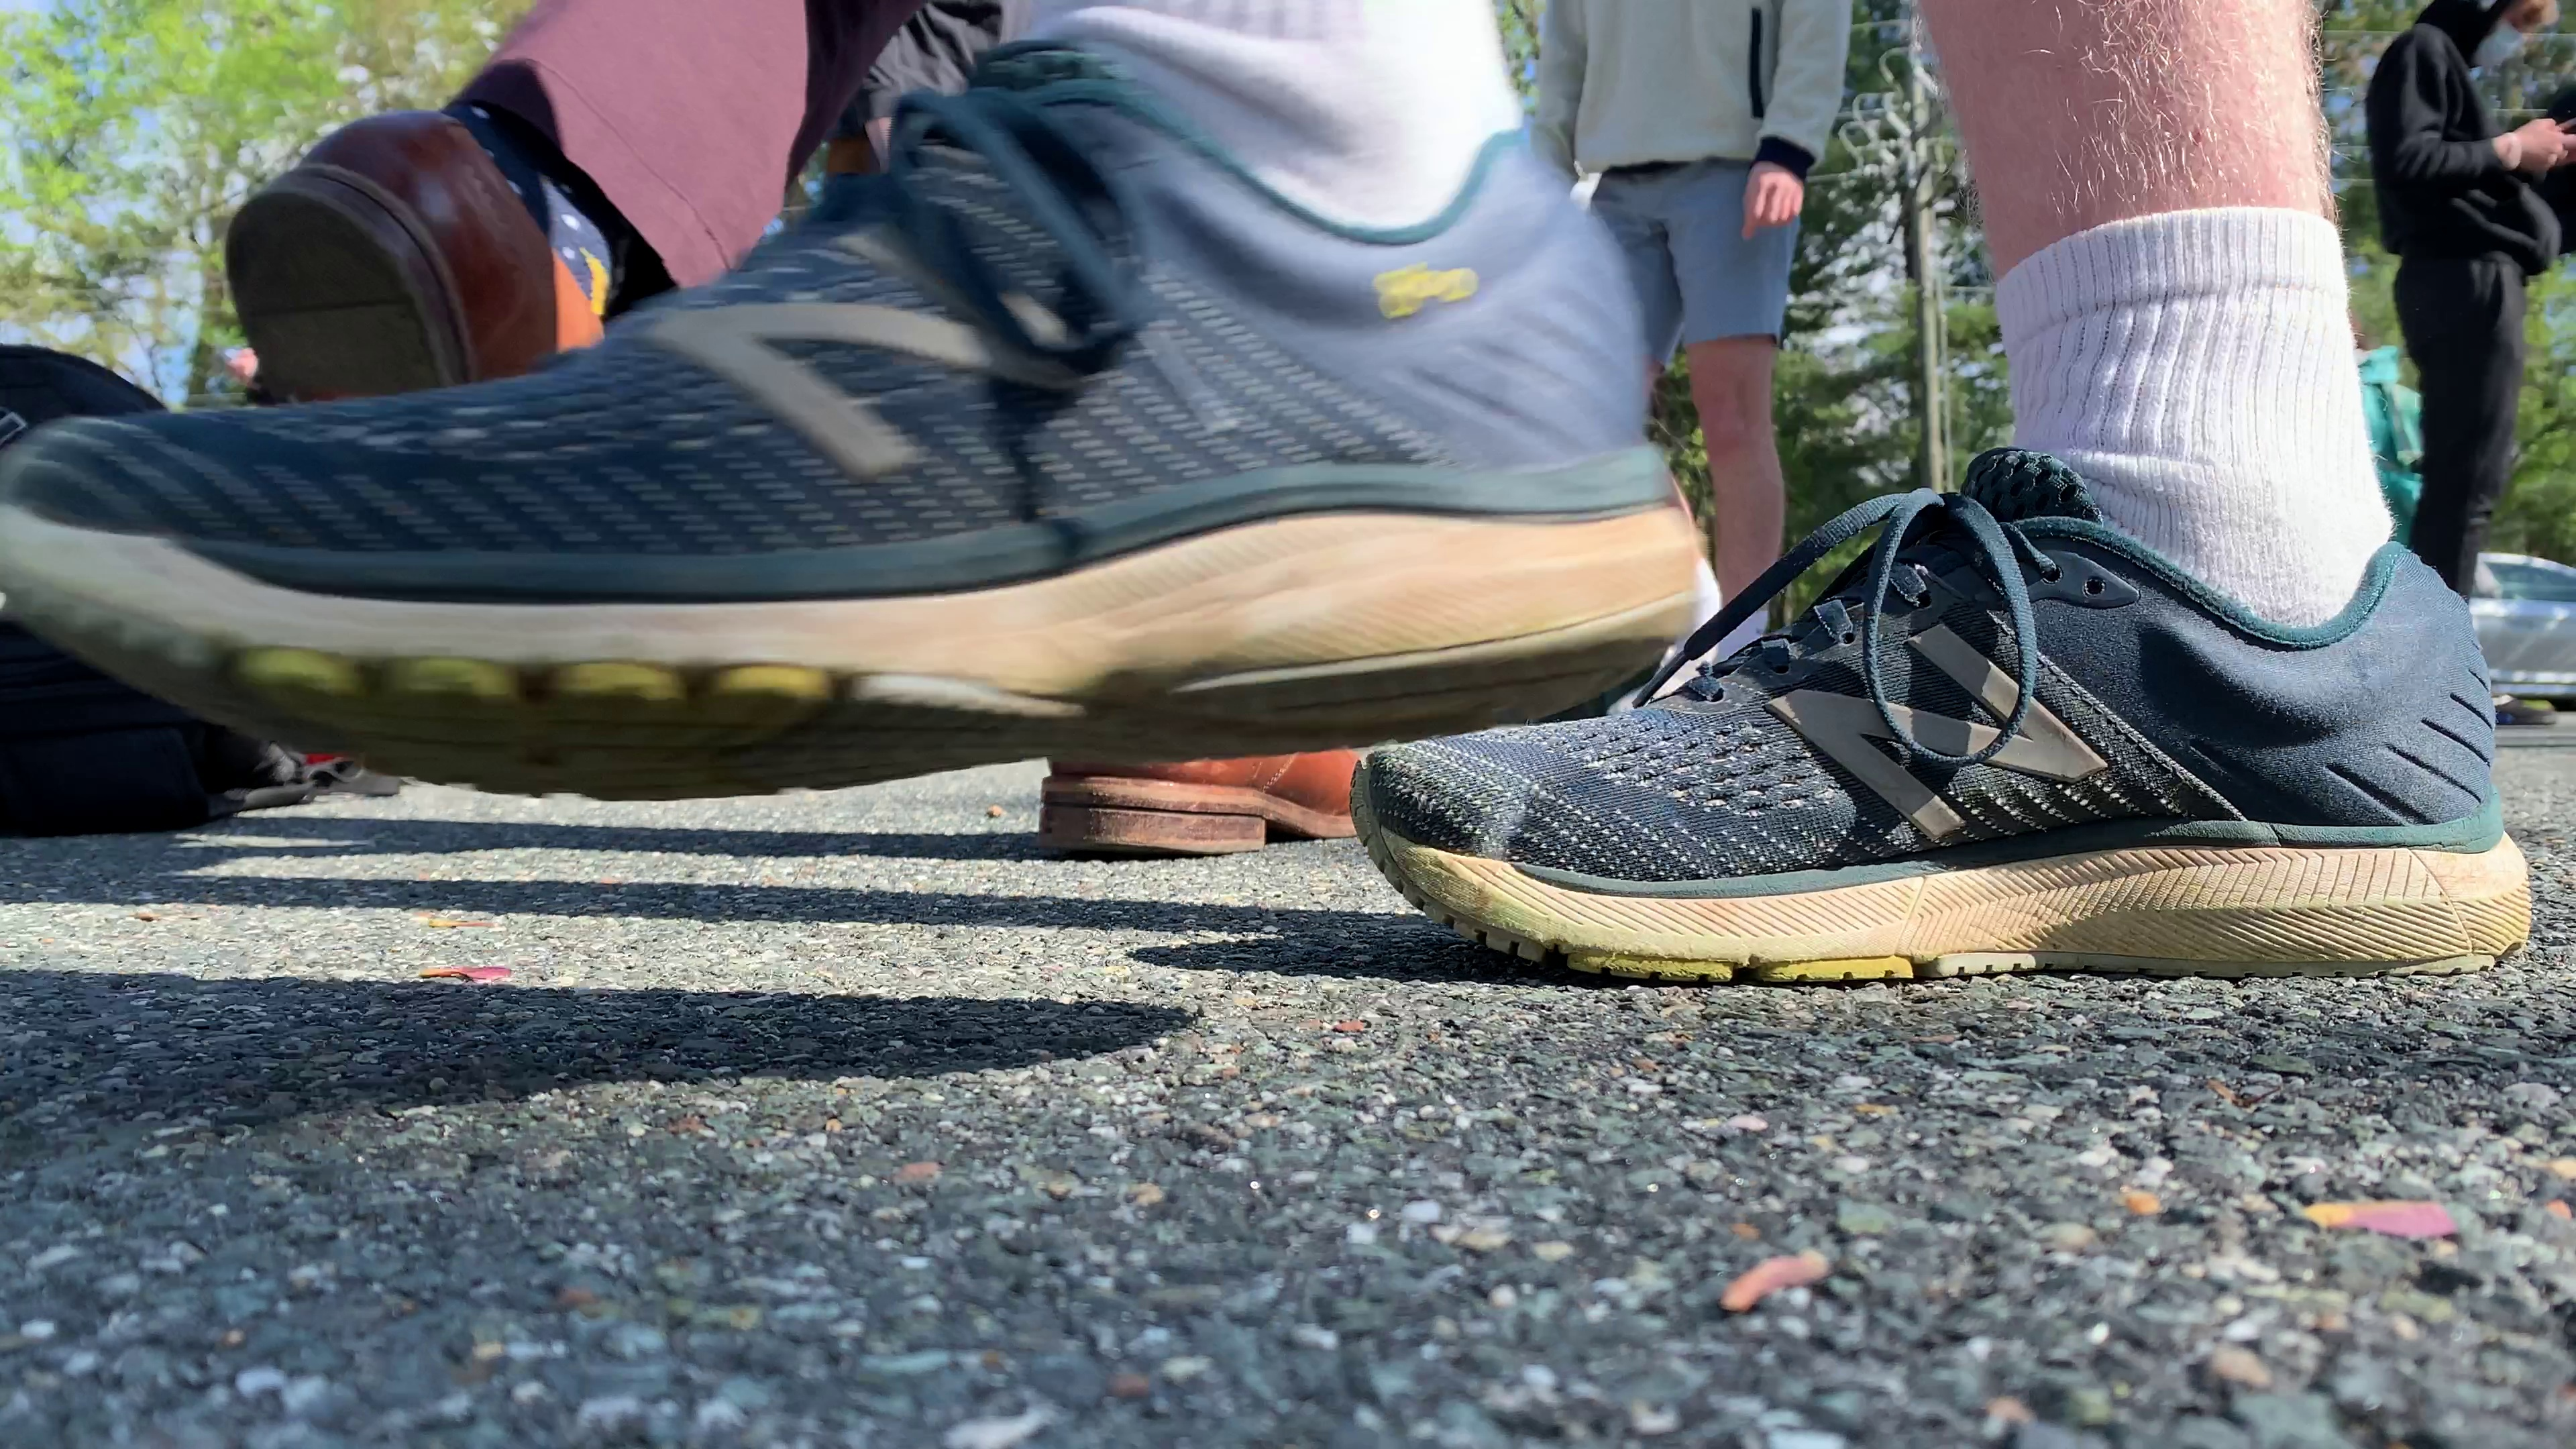shoe: (0, 41, 1695, 800), (1348, 449, 2532, 985), (225, 111, 586, 832)
